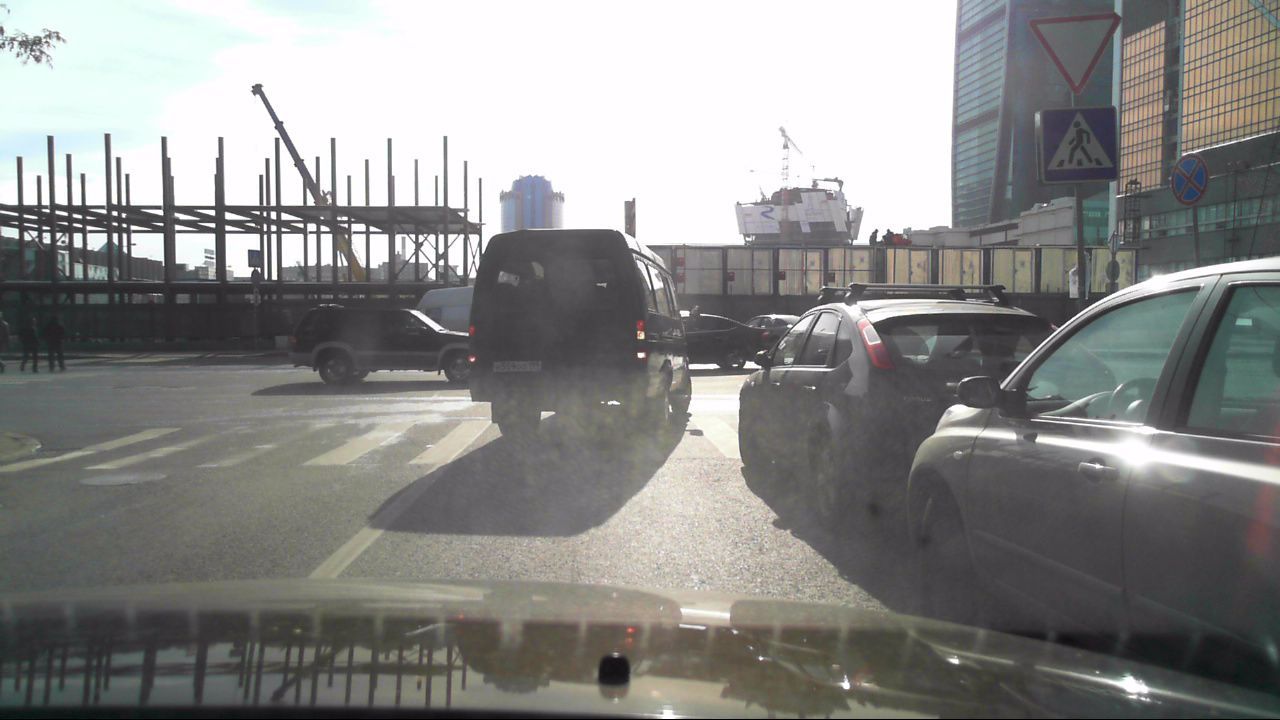No Parking: (1168, 148, 1209, 207)
